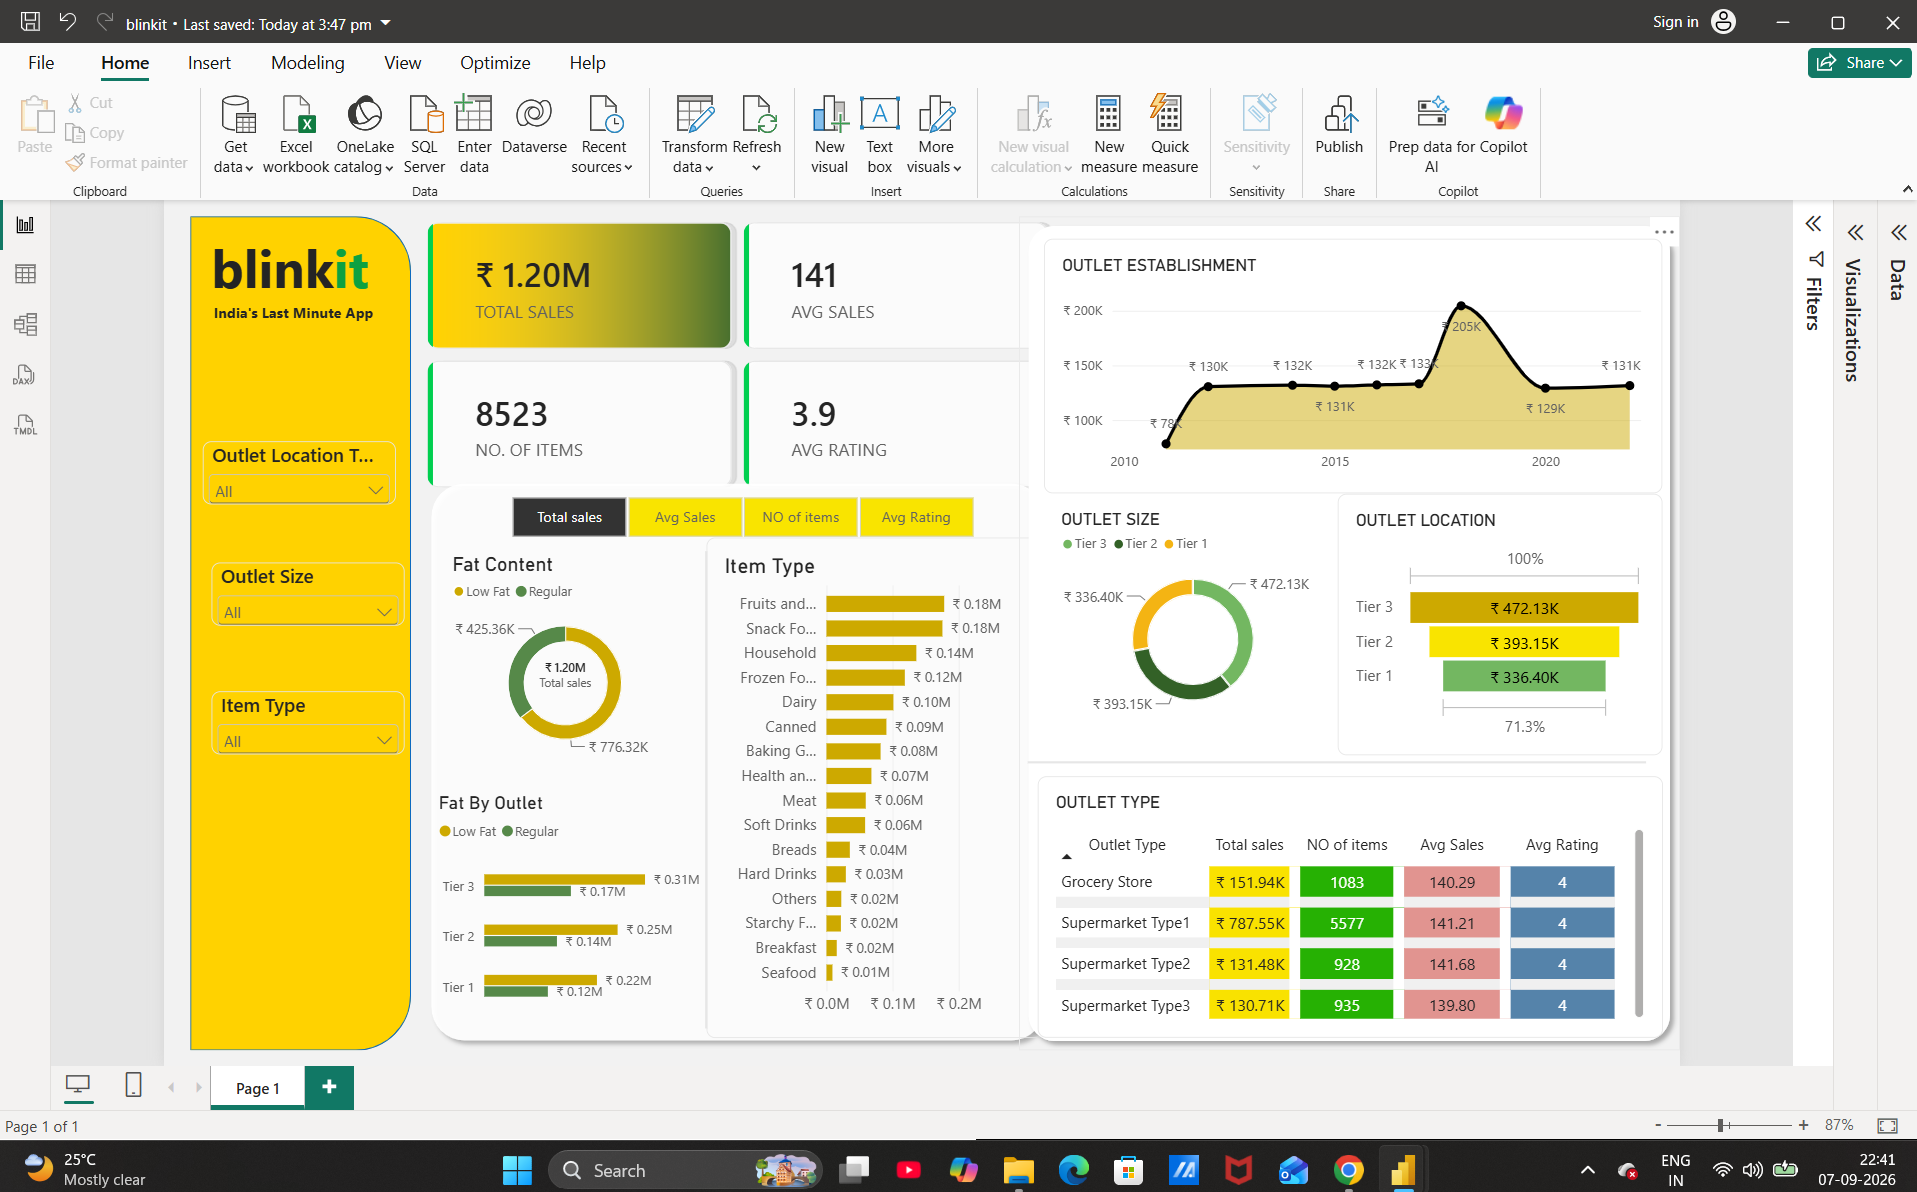

The dashboard page shown, as its layout file describes it:
{"tool":"powerbi","page":{"name":"Page 1","canvas":[1400,800],"ordinal":0},"visuals":[{"type":"shape","box":[24,15,203.9,770.8],"z":0},{"type":"textbox","box":[43.5,28.5,165,81],"z":1000},{"type":"textbox","box":[34.5,93,174,33],"z":2000},{"type":"cardVisual","fields":{"Data":["BlinkIT Grocery Data.Total sales","BlinkIT Grocery Data.Avg Sales","BlinkIT Grocery Data.NO of items","BlinkIT Grocery Data.Avg Rating"]},"box":[237.7,15.3,584.6,256.7],"z":3000},{"type":"shape","box":[237.7,252.9,584.6,532.5],"z":4000},{"type":"donutChart","title":" Fat Content","fields":{"Category":["BlinkIT Grocery Data.Item Fat Content"],"Y":["BlinkIT Grocery Data.Total sales"]},"box":[250.4,311.4,240.2,221.1],"z":5000},{"type":"slicer","fields":{"Values":["metrics.metrics"]},"box":[301.2,272,465,40],"z":6000},{"type":"cardVisual","fields":{"Data":["BlinkIT Grocery Data.Total sales"]},"box":[329.2,421.9,83.9,36.9],"z":7000},{"type":"clusteredBarChart","title":"Fat By Outlet","fields":{"Category":["BlinkIT Grocery Data.Outlet Location Type"],"Series":["BlinkIT Grocery Data.Item Fat Content"],"Y":["BlinkIT Grocery Data.Total sales"]},"box":[237.7,532.5,273.2,241.5],"z":8000},{"type":"shape","box":[490.6,324.1,20.3,441],"z":9000},{"type":"barChart","title":"Item Type","fields":{"Category":["BlinkIT Grocery Data.Item Type"],"Y":["BlinkIT Grocery Data.Total sales"]},"box":[500.7,311.4,311.4,462.6],"z":10000},{"type":"shape","box":[790.3,15,610.3,770.8],"z":11000},{"type":"lineChart","title":"OUTLET ESTABLISHMENT","fields":{"Category":["BlinkIT Grocery Data.Outlet Establishment Year"],"Y":["BlinkIT Grocery Data.Total sales"]},"box":[812.8,36,571.3,235.4],"z":12000},{"type":"donutChart","title":"OUTLET SIZE","fields":{"Category":["BlinkIT Grocery Data.Outlet Location Type"],"Y":["BlinkIT Grocery Data.Total sales"]},"box":[812.8,271.4,275,225],"z":13000},{"type":"funnel","title":"OUTLET LOCATION","fields":{"Category":["BlinkIT Grocery Data.Outlet Location Type"],"Y":["BlinkIT Grocery Data.Total sales"]},"box":[1084.2,271.4,299.9,241.4],"z":14000},{"type":"shape","box":[797.8,512.9,571.3,13.5],"z":15000},{"type":"pivotTable","title":"OUTLET TYPE","fields":{"Rows":["BlinkIT Grocery Data.Outlet Type"],"Values":["BlinkIT Grocery Data.Total sales","BlinkIT Grocery Data.NO of items","BlinkIT Grocery Data.Avg Sales","BlinkIT Grocery Data.Avg Rating"]},"box":[806.8,532.4,577.3,241.4],"z":16000},{"type":"slicer","fields":{"Values":["BlinkIT Grocery Data.Outlet Location Type"]},"box":[36,223.4,178.5,58.5],"z":16001},{"type":"slicer","fields":{"Values":["BlinkIT Grocery Data.Outlet Size"]},"box":[43.5,334.4,178.5,58.5],"z":16002},{"type":"slicer","fields":{"Values":["BlinkIT Grocery Data.Item Type"]},"box":[43.5,454.4,178.5,58.5],"z":16003}]}

Visuals, with their boxes on the page's 1400x800 design canvas (x1, y1, x2, y2). These are canvas units, not pixel positions in the 1917x1192 screenshot, which may show the page scaled, cropped or inside an application window:
shape: l=24, t=15, r=228, b=786
textbox: l=44, t=28, r=208, b=110
textbox: l=34, t=93, r=208, b=126
cardVisual - BlinkIT Grocery Data.Total sales x BlinkIT Grocery Data.Avg Sales: l=238, t=15, r=822, b=272
shape: l=238, t=253, r=822, b=785
" Fat Content" donutChart: l=250, t=311, r=491, b=532
slicer - metrics.metrics: l=301, t=272, r=766, b=312
cardVisual - BlinkIT Grocery Data.Total sales: l=329, t=422, r=413, b=459
"Fat By Outlet" clusteredBarChart: l=238, t=532, r=511, b=774
shape: l=491, t=324, r=511, b=765
"Item Type" barChart: l=501, t=311, r=812, b=774
shape: l=790, t=15, r=1401, b=786
"OUTLET ESTABLISHMENT" lineChart: l=813, t=36, r=1384, b=271
"OUTLET SIZE" donutChart: l=813, t=271, r=1088, b=496
"OUTLET LOCATION" funnel: l=1084, t=271, r=1384, b=513
shape: l=798, t=513, r=1369, b=526
"OUTLET TYPE" pivotTable: l=807, t=532, r=1384, b=774
slicer - BlinkIT Grocery Data.Outlet Location Type: l=36, t=223, r=214, b=282
slicer - BlinkIT Grocery Data.Outlet Size: l=44, t=334, r=222, b=393
slicer - BlinkIT Grocery Data.Item Type: l=44, t=454, r=222, b=513
